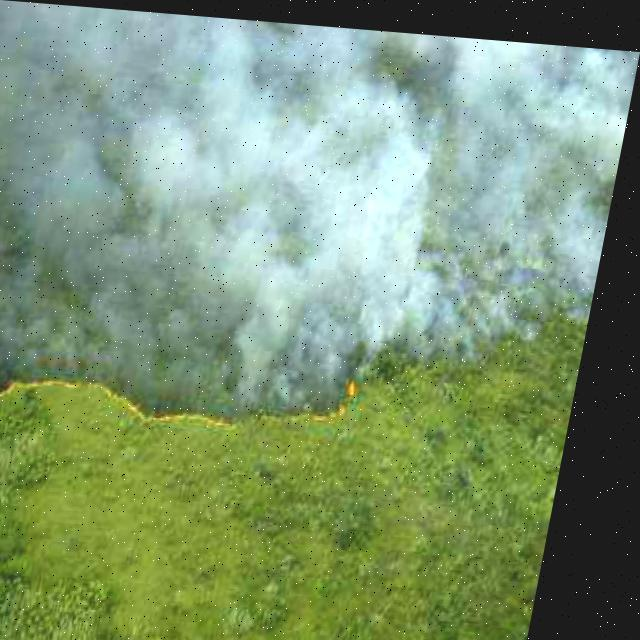Fire: (0, 346, 375, 435)
